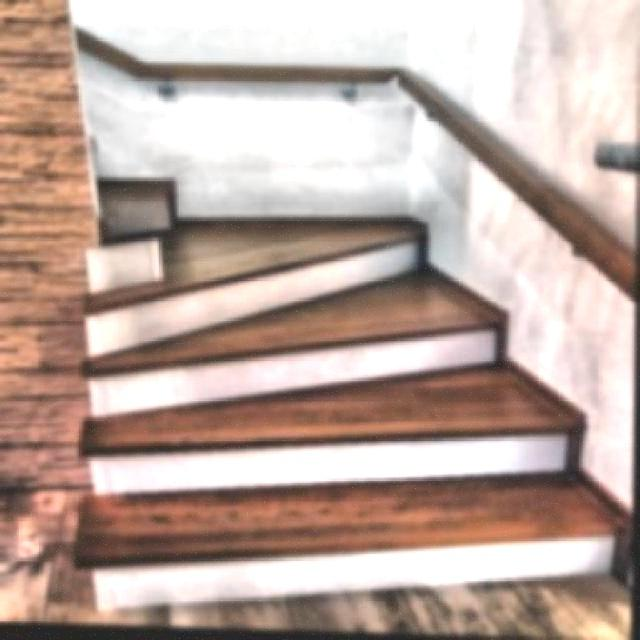stair: (75, 270, 610, 604)
